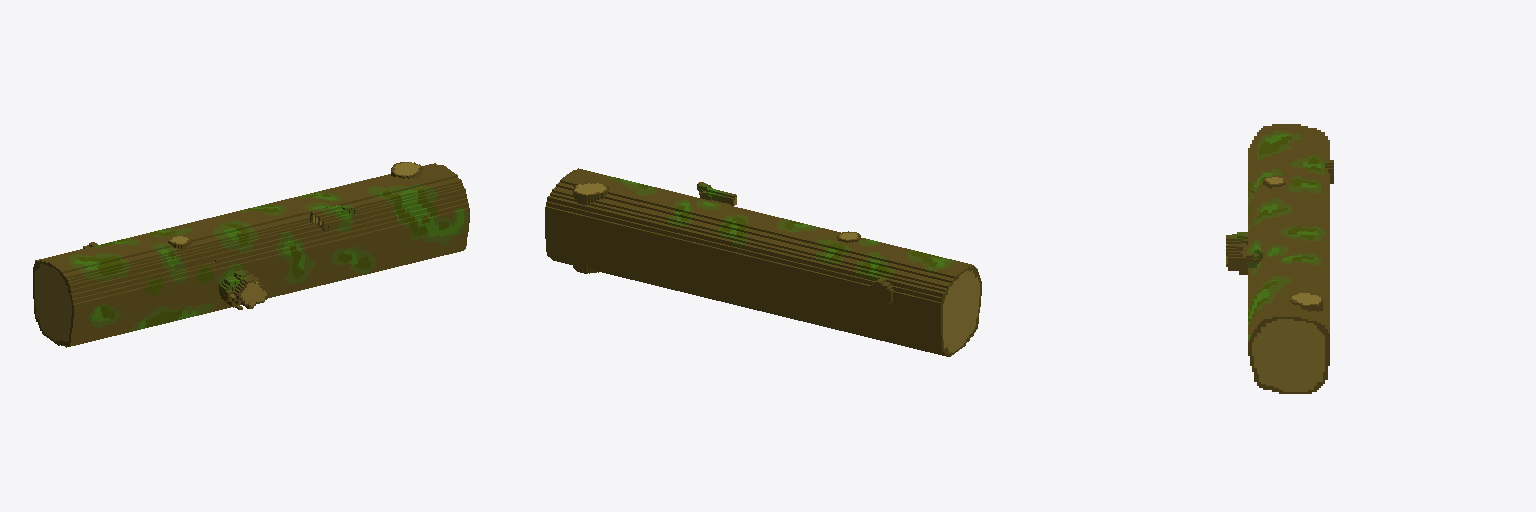
3 renders of one model, left to right at view 1: azimuth 30°, elevation 25°; view 2: azimuth 150°, elevation 25°; view 3: azimuth 270°, elevation 25°, orthographic.
Visible parts, largest first — view 1: object 1; view 2: object 1; view 3: object 1.
Part boxes in pixels (left/top/right/bottom): object 1: left=33, top=162, right=469, bottom=347; object 1: left=545, top=168, right=981, bottom=356; object 1: left=1226, top=124, right=1333, bottom=393.
Bounding box in the file's own units: 20.6 × 4.1 × 4.9.
Materials: 1 (1 with a texture image).